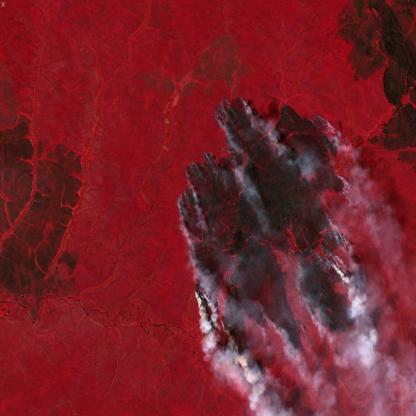fire: (175, 91, 357, 360)
